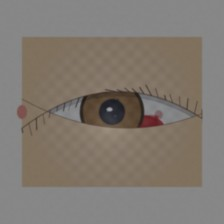hemorrhage_spot: (103, 98, 174, 155)
